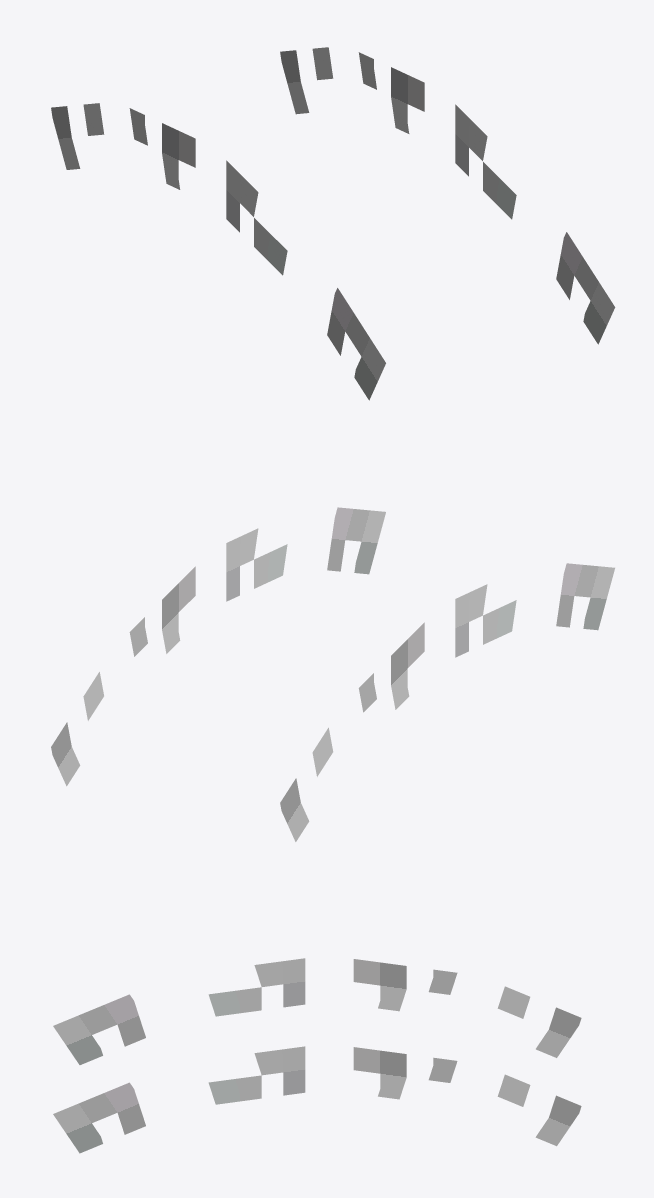
The model's file is demon_portal_runes4.obj.
3 views of the same model, one above another, from view 1: azimuth 30°, elevation 25°; view 2: azimuth 150°, elevation 25°; view 3: azimuth 270°, elevation 25° (orthographic). The views are drawn at different scales.
Visible parts, largest first — view 1: Runes_4_Circle.005; view 2: Runes_4_Circle.005; view 3: Runes_4_Circle.005.
Part boxes in pixels (bbox=[...]): Runes_4_Circle.005: bbox=[51, 47, 615, 400]; Runes_4_Circle.005: bbox=[51, 507, 614, 841]; Runes_4_Circle.005: bbox=[53, 958, 581, 1153].
Size of the model in its own units: 0.255 by 0.2207 by 0.7654.
